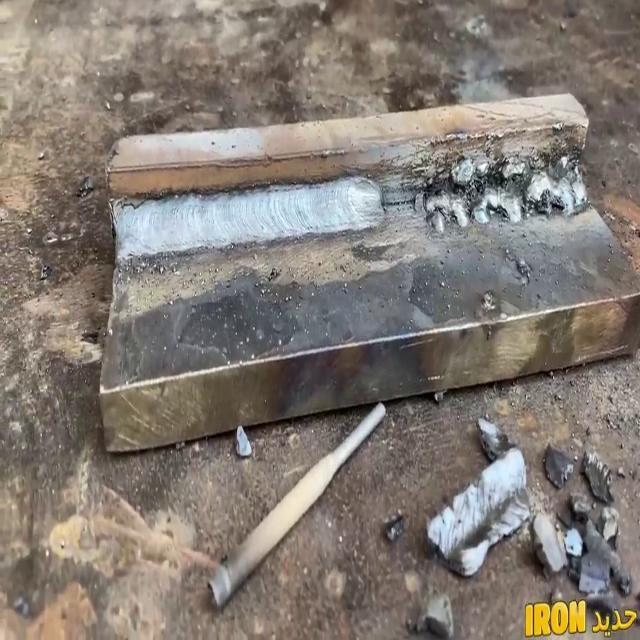Bad Welding: (416, 131, 595, 239)
Good Welding: (110, 176, 388, 272)
